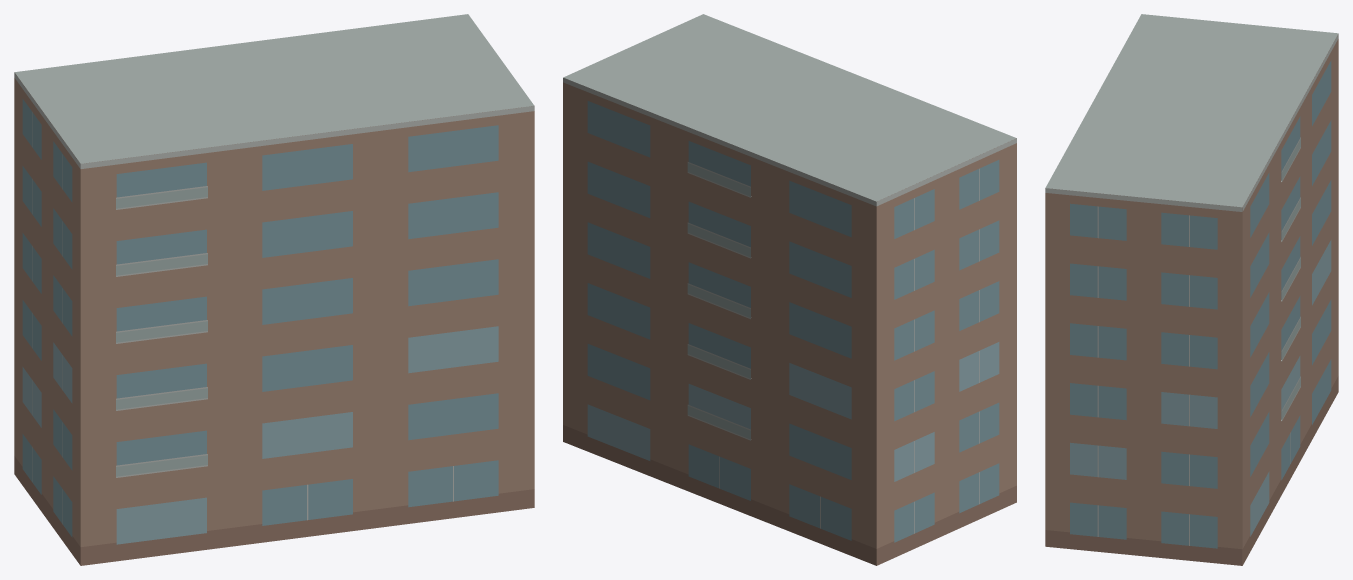
The model's file is survey-upis-32949662.glb.
3 views of the same model, side by side, from view 1: azimuth 30°, elevation 25°; view 2: azimuth 150°, elevation 25°; view 3: azimuth 270°, elevation 25° (orthographic). The views are drawn at different scales.
Parts seen in each view (by area): view 1: survey-upis-32949662.tmp; view 2: survey-upis-32949662.tmp; view 3: survey-upis-32949662.tmp.
Boxes of the visible parts, <box> form: survey-upis-32949662.tmp: <box>14,14,534,565</box>; survey-upis-32949662.tmp: <box>563,14,1016,565</box>; survey-upis-32949662.tmp: <box>1045,14,1338,565</box>.
Bounding box in the file's own units: 21.17 × 18.3 × 13.58.
